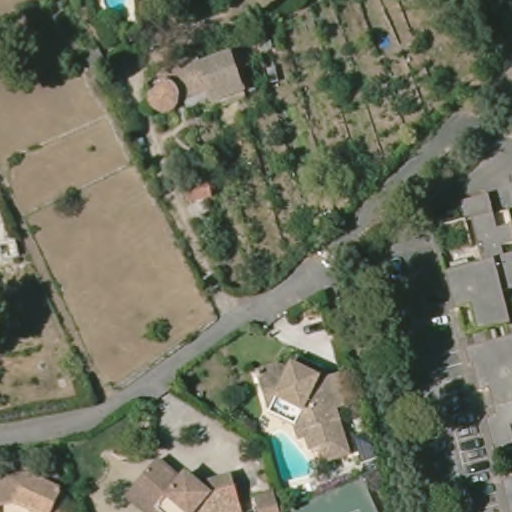pool: (265, 422, 316, 490), (95, 1, 135, 21)
